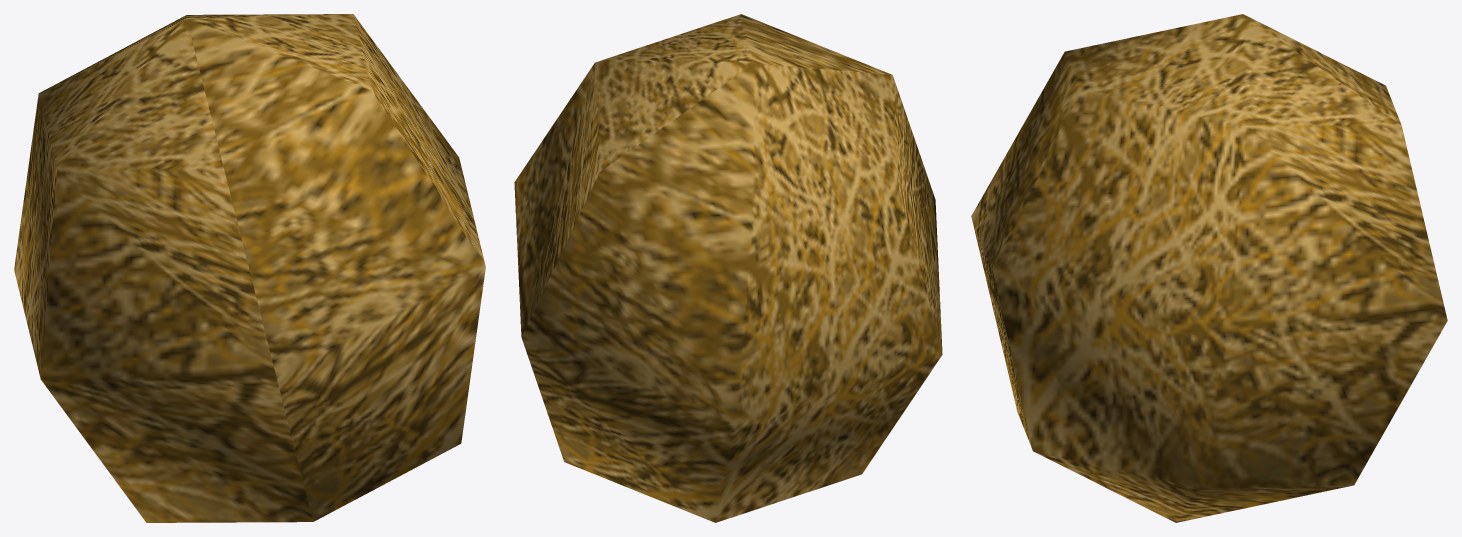
File: des_tumbleweed.fbx
The picture shows the model from 3 angles, left to right: view 1: azimuth 30°, elevation 25°; view 2: azimuth 150°, elevation 25°; view 3: azimuth 270°, elevation 25°; orthographic projection. The views are drawn at different scales.
Visible parts, largest first — view 1: desert_bush.001; view 2: desert_bush.001; view 3: desert_bush.001.
Part boxes in pixels (x1=…): desert_bush.001: x1=14, y1=14, x2=485, y2=522; desert_bush.001: x1=514, y1=14, x2=942, y2=522; desert_bush.001: x1=971, y1=14, x2=1447, y2=522.
Size of the model in its own units: 108 by 116 by 107.
Materials: 1 (1 with a texture image).
